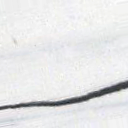crackTip: (1, 80, 128, 111)
